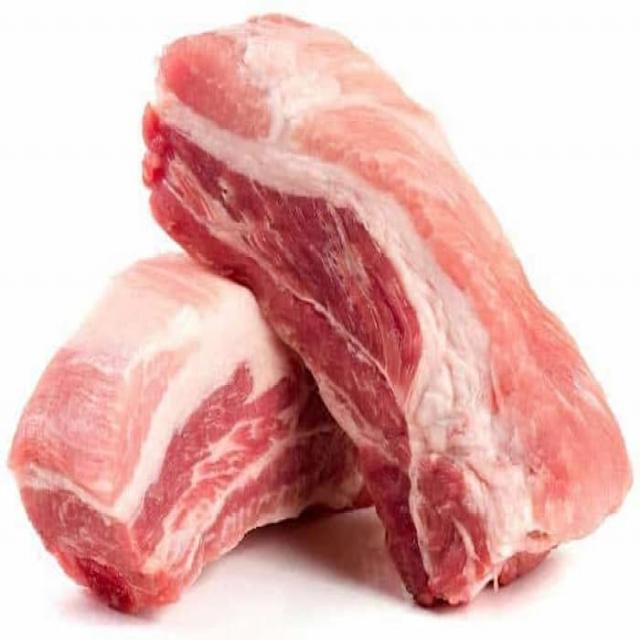pork: (139, 9, 635, 616), (3, 220, 290, 624)
